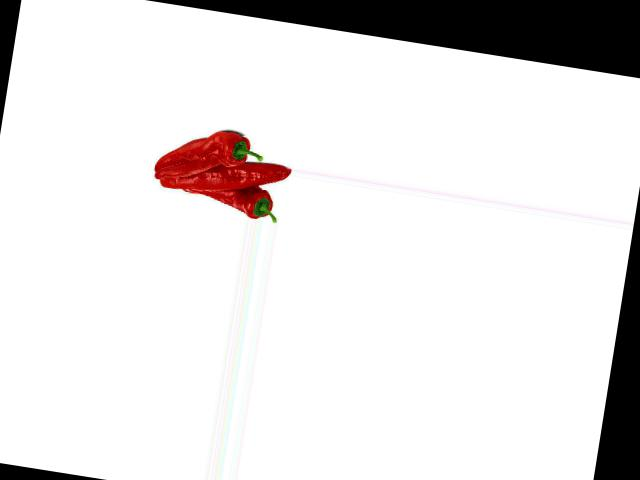bell_pepper: (153, 117, 269, 182)
